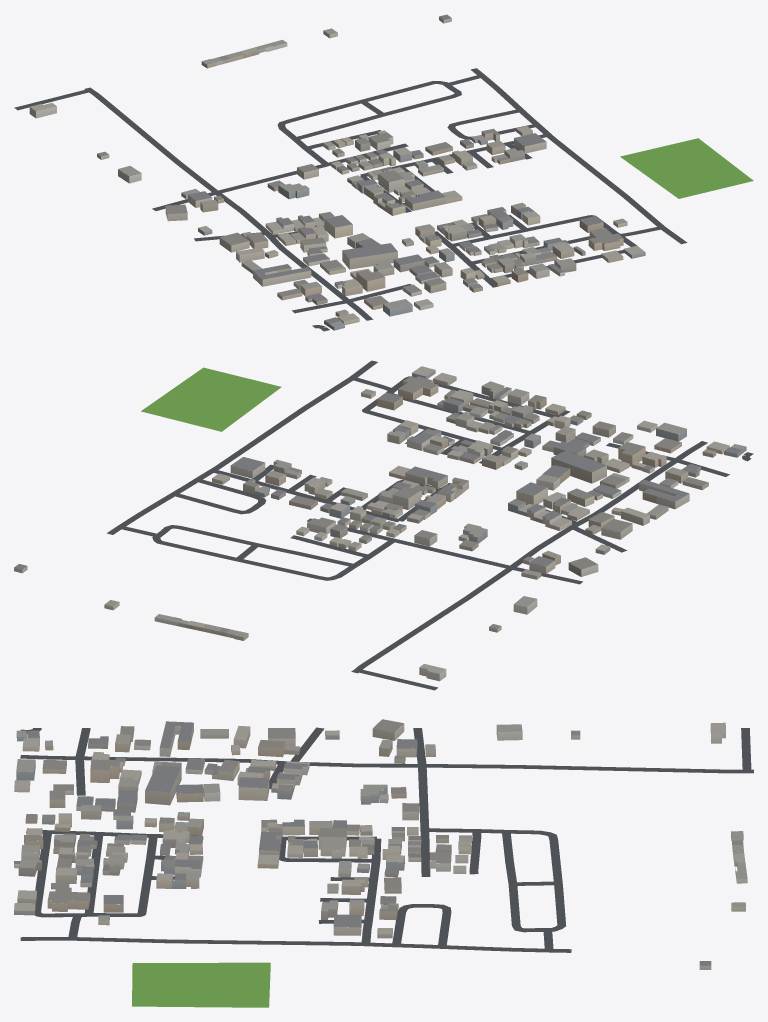
3 renders of one model, top to bottom at view 1: azimuth 30°, elevation 25°; view 2: azimuth 150°, elevation 25°; view 3: azimuth 270°, elevation 25°, orthographic. The views are drawn at different scales.
Parts seen in each view (by area): view 1: buildings_roofs, buildings_walls, roads, landuse; view 2: buildings_walls, buildings_roofs, roads, landuse; view 3: buildings_roofs, roads, buildings_walls, landuse.
Part boxes in pixels (box(x1,y1,x2,y2)): buildings_roofs: box(30, 14, 645, 326); buildings_walls: box(29, 17, 645, 330); roads: box(14, 68, 687, 331); landuse: box(620, 138, 753, 198); buildings_walls: box(14, 370, 746, 681); buildings_roofs: box(14, 366, 745, 673); roads: box(107, 360, 753, 690); landuse: box(141, 367, 281, 431); buildings_roofs: box(14, 719, 747, 965); roads: box(20, 727, 753, 952); buildings_walls: box(14, 723, 747, 969); landuse: box(132, 962, 270, 1007).
Size of the model in its own units: 452 by 9.6 by 505.
